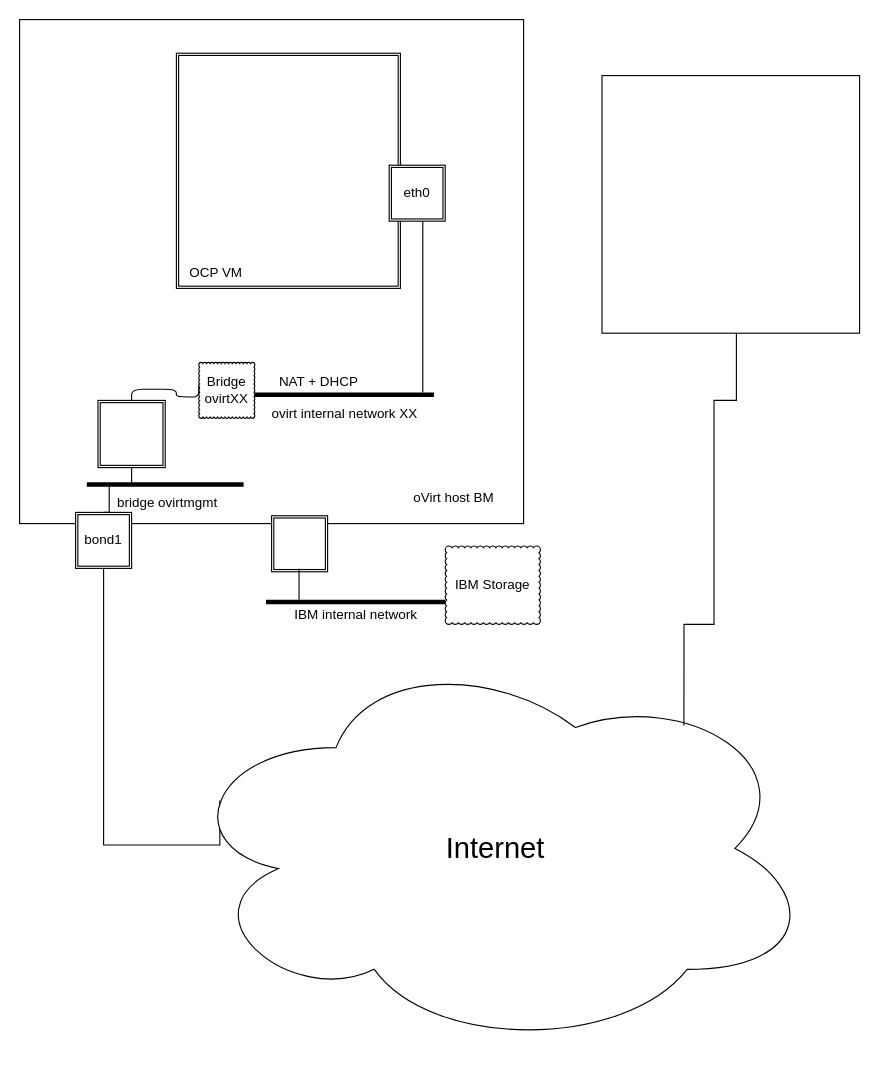
This 879x1070 diagram has some shape labels left out. The box of each missing label's shape, as (x1, y1, x2, y2) in pixels:
bond0: (270, 515, 328, 572)
GCP Engine VM: (601, 74, 860, 333)
haproxy: (97, 399, 165, 468)
